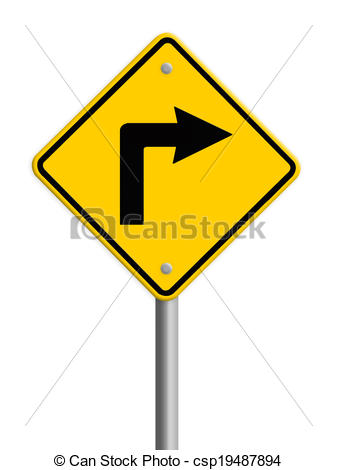right: (31, 31, 302, 301)
